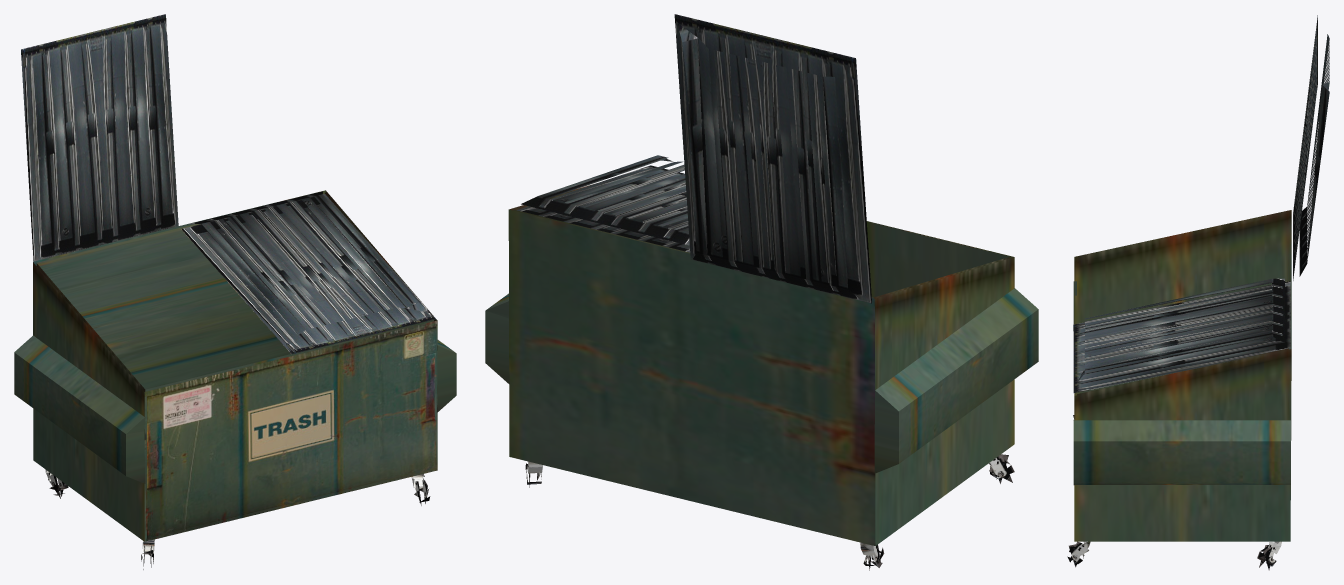
Rendered from dumpster_half_100.fbx.
3 views of the same model, side by side, from view 1: azimuth 30°, elevation 25°; view 2: azimuth 150°, elevation 25°; view 3: azimuth 270°, elevation 25° (orthographic). The views are drawn at different scales.
Parts seen in each view (by area): view 1: box0, doora0, doorb0, NoName_9, bolsters0, wheels0; view 2: box0, doora0, NoName_9, doorb0, bolsters0, wheels0; view 3: box0, doorb0, bolsters0, doora0, wheels0.
Boxes of the visible parts, left/top/right/bottom form: box0: left=33, top=190, right=437, bottom=541; doora0: left=21, top=14, right=178, bottom=261; doorb0: left=181, top=191, right=435, bottom=354; NoName_9: left=14, top=335, right=145, bottom=483; bolsters0: left=437, top=340, right=456, bottom=412; wheels0: left=45, top=469, right=430, bottom=569; box0: left=508, top=184, right=1014, bottom=545; doora0: left=674, top=14, right=871, bottom=303; NoName_9: left=874, top=288, right=1038, bottom=473; doorb0: left=517, top=155, right=690, bottom=252; bolsters0: left=485, top=293, right=509, bottom=384; wheels0: left=525, top=454, right=1014, bottom=570; box0: left=1074, top=210, right=1291, bottom=541; doorb0: left=1073, top=278, right=1290, bottom=392; bolsters0: left=1073, top=420, right=1290, bottom=484; doora0: left=1293, top=15, right=1329, bottom=280; wheels0: left=1067, top=415, right=1281, bottom=570.
Size of the model in its own units: 3.56 by 4.45 by 2.52.
